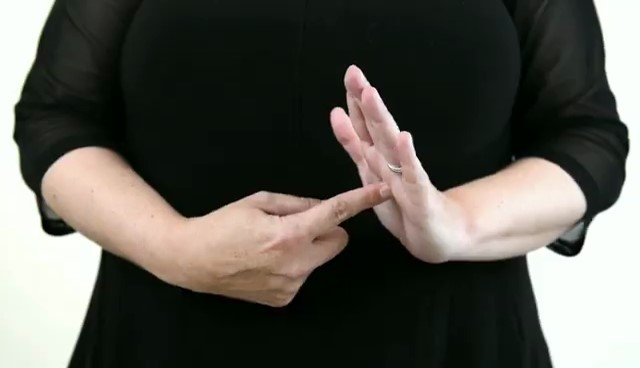L: (203, 56, 454, 311)
